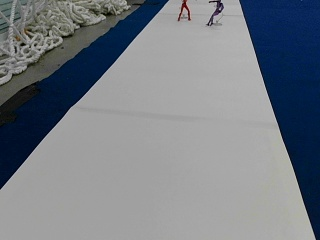pedestrian: (205, 0, 223, 25), (177, 0, 192, 21)
